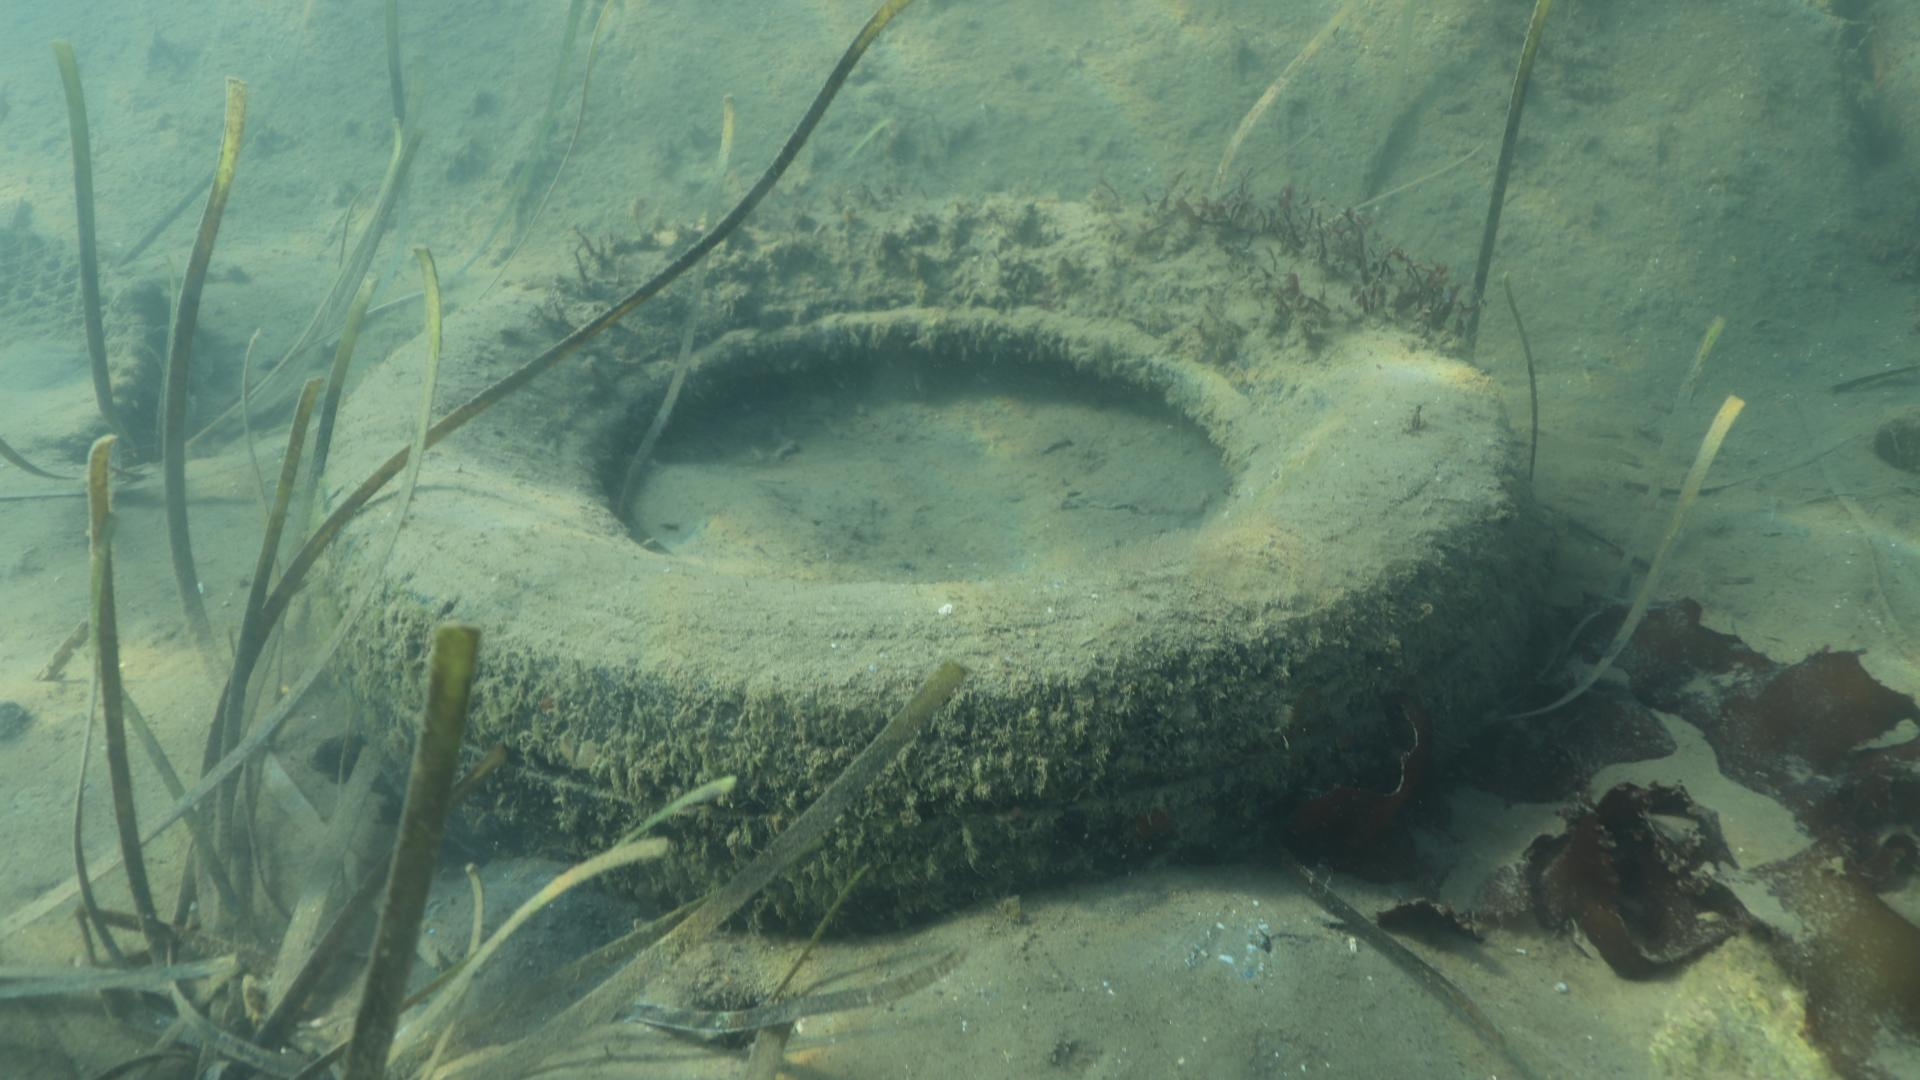tire: (316, 191, 1556, 938)
